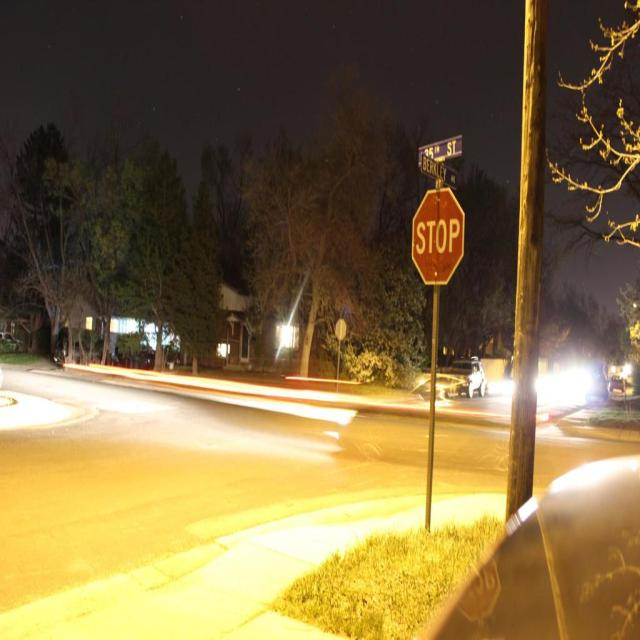Stop-sign: (410, 186, 466, 288)
